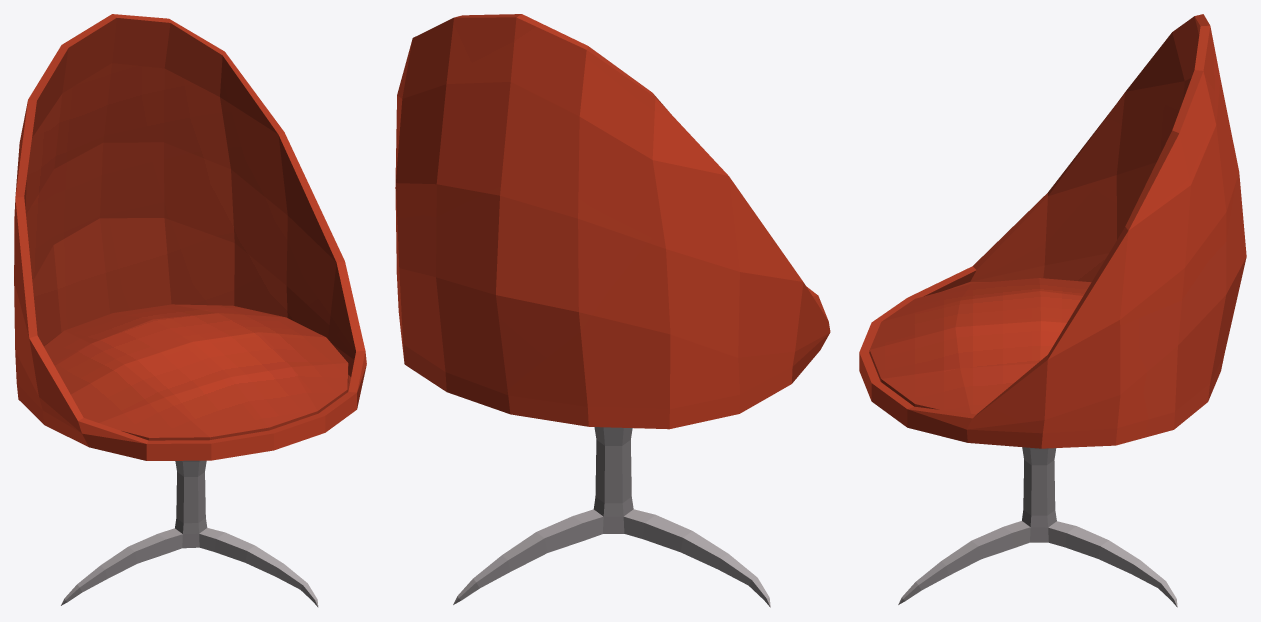
File: chair.fbx
The picture shows the model from 3 angles, left to right: view 1: azimuth 30°, elevation 25°; view 2: azimuth 150°, elevation 25°; view 3: azimuth 270°, elevation 25°; orthographic projection. The views are drawn at different scales.
Parts seen in each view (by area): view 1: Plane.002; view 2: Plane.002; view 3: Plane.002.
Part boxes in pixels (<box>): Plane.002: <box>14,14,366,607</box>; Plane.002: <box>395,14,830,607</box>; Plane.002: <box>859,14,1246,607</box>.
Bounding box in the file's own units: 210 × 320 × 205.
Materials: 1 (1 with a texture image).
